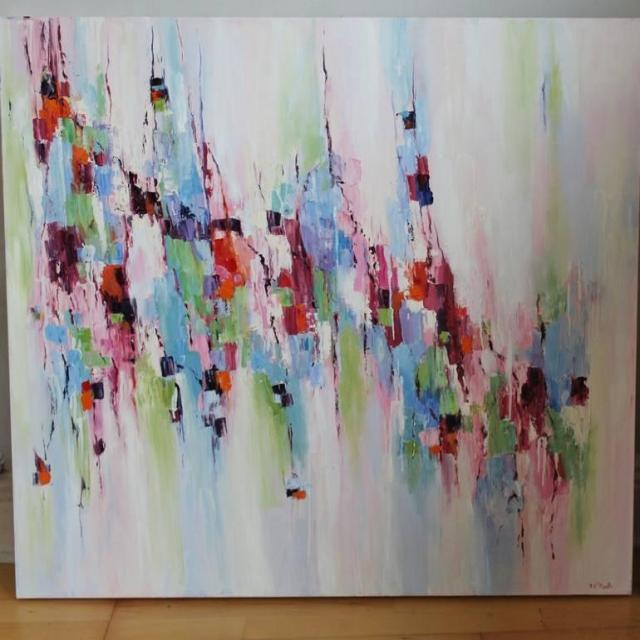painting: (0, 19, 640, 598)
